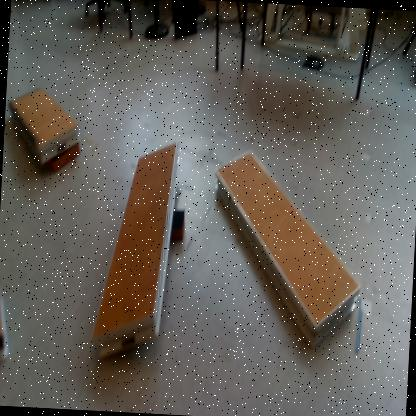Stairs: (215, 147, 361, 353), (93, 144, 180, 364), (11, 87, 80, 165), (1, 292, 9, 362)
